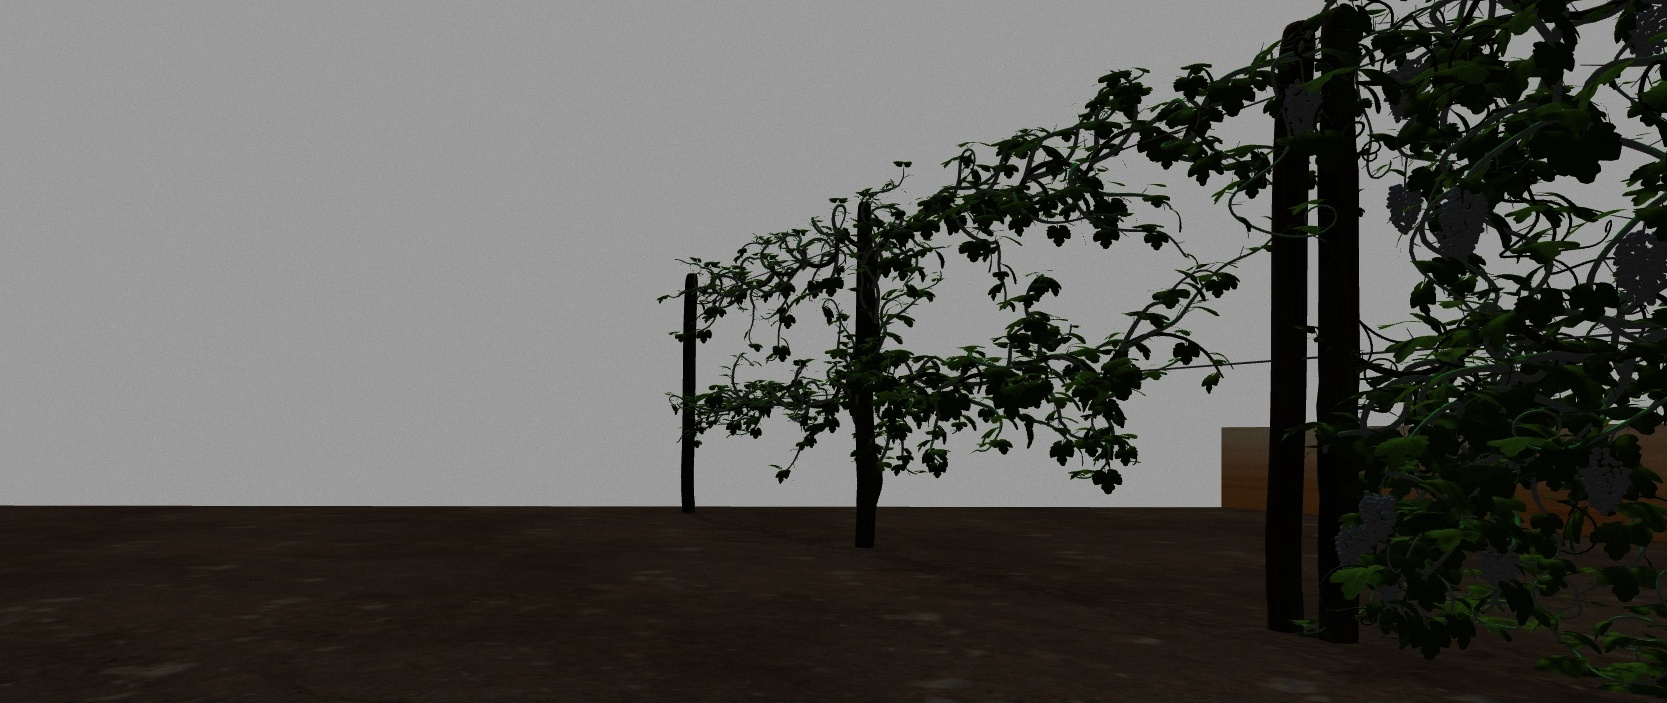grape: (1614, 227, 1666, 305), (1580, 446, 1632, 516), (1441, 188, 1488, 264), (1282, 79, 1321, 136), (1357, 491, 1398, 543), (1477, 545, 1520, 591), (1387, 183, 1424, 237), (1630, 9, 1667, 60), (1332, 525, 1363, 565)
